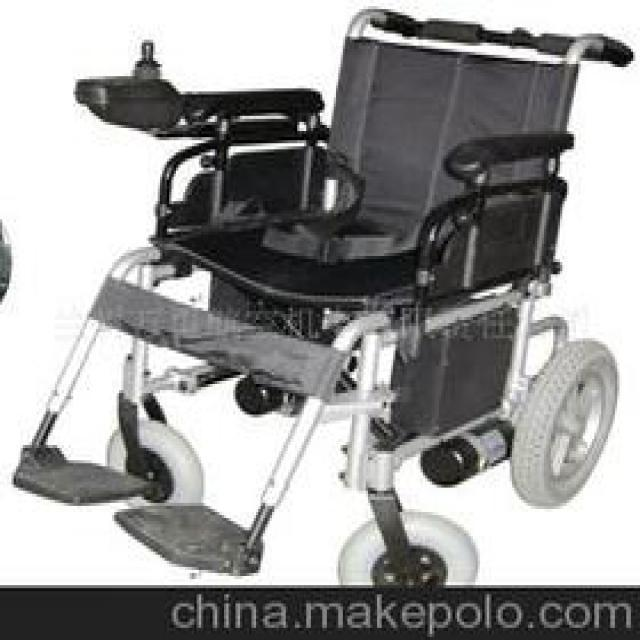wheelchairs: (20, 12, 617, 582)
